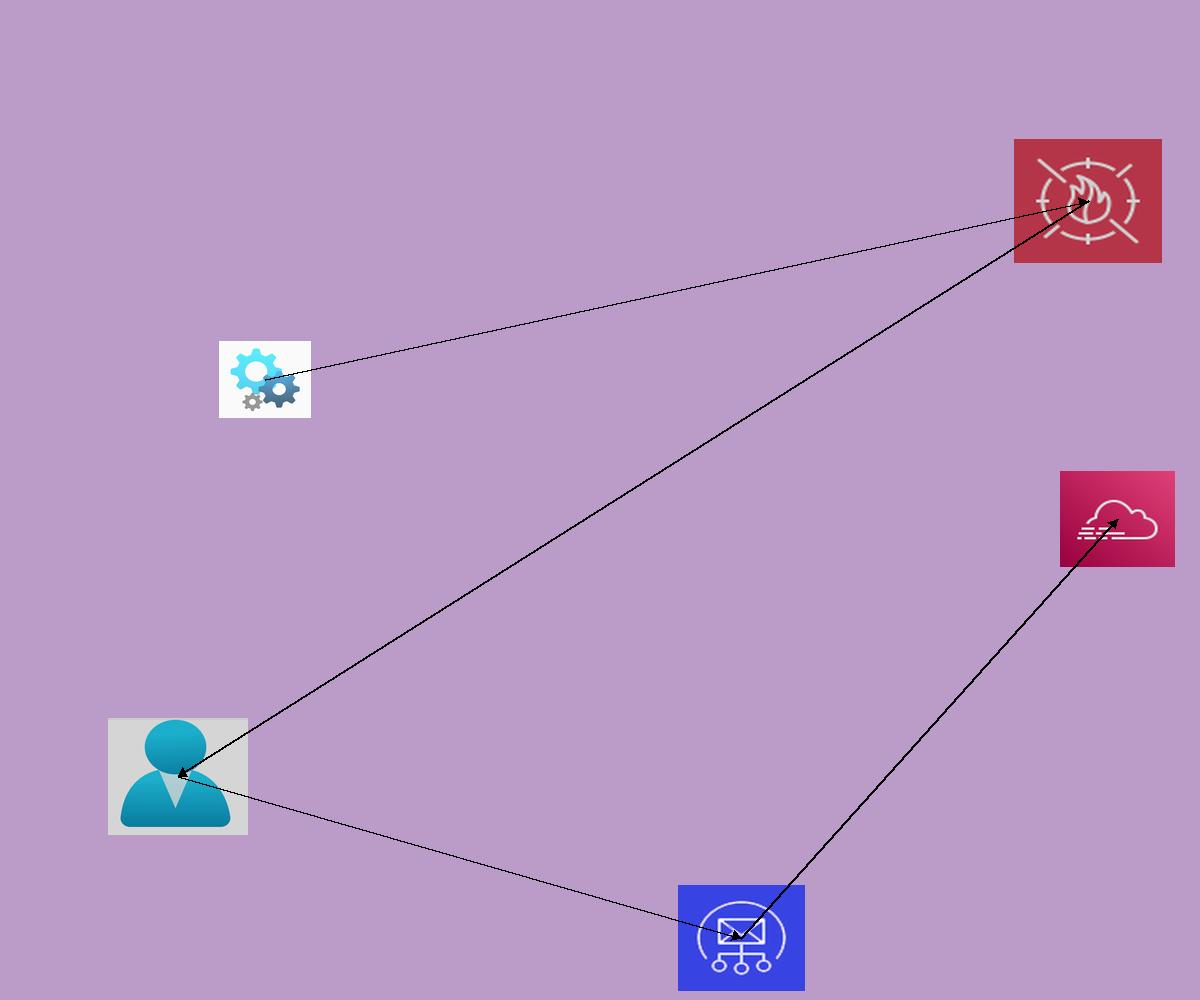AWS-CloudTrail: (1060, 471, 1175, 567)
AWS-Simple-Email-Service: (678, 885, 805, 991)
AWS-WAF: (1014, 139, 1162, 263)
Azure_api: (219, 341, 311, 418)
Azure_users: (108, 718, 248, 835)
